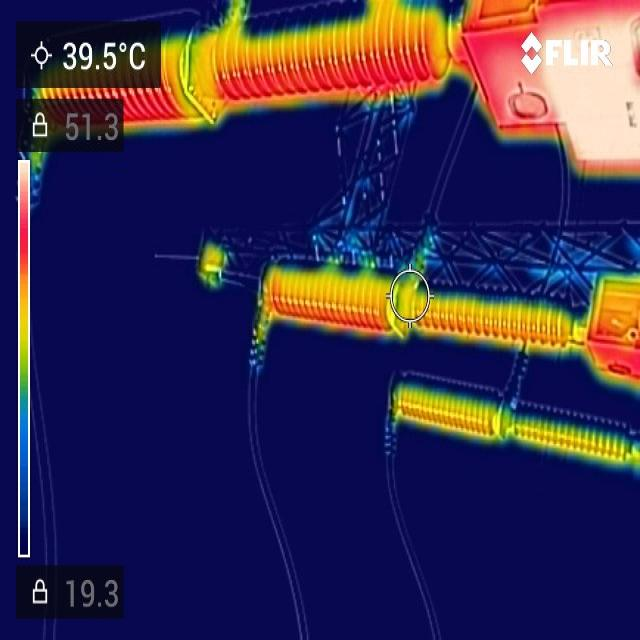Zona_Atenco: (217, 11, 429, 71), (605, 289, 639, 334)
Zona_Critica: (219, 56, 427, 101), (596, 341, 637, 375)
Zona_Extrema: (545, 25, 638, 161)
